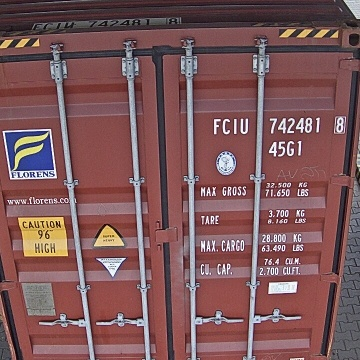serial_id: (214, 116, 345, 134)
